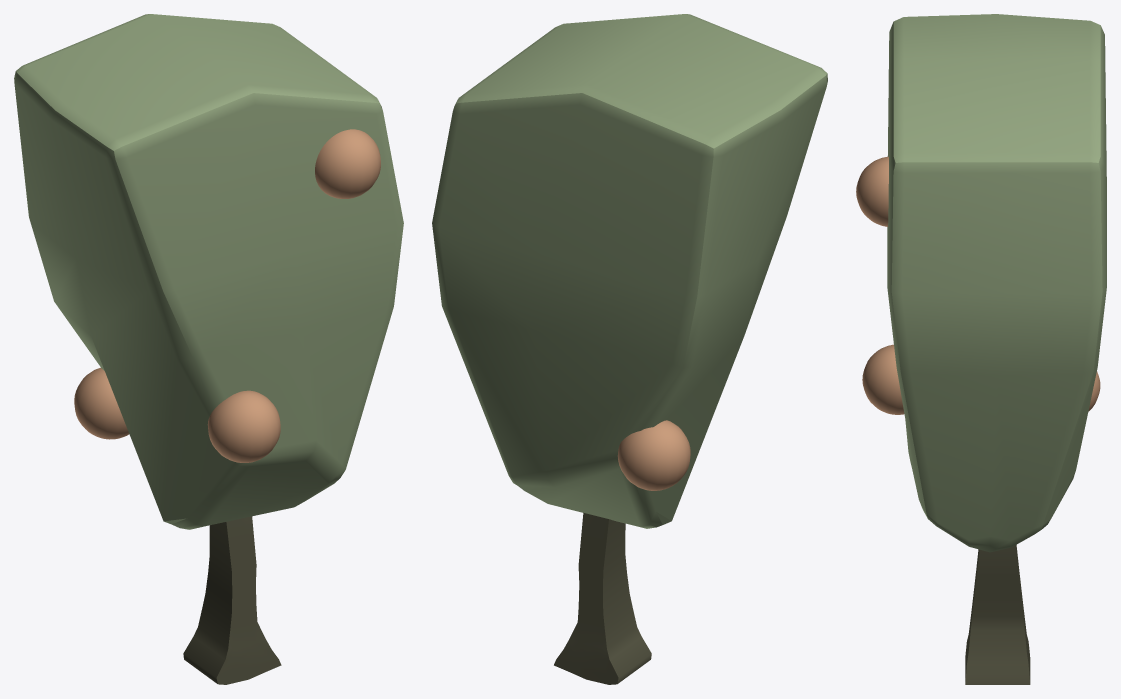
The model's file is Tree1AppleDark.fbx.
3 views of the same model, side by side, from view 1: azimuth 30°, elevation 25°; view 2: azimuth 150°, elevation 25°; view 3: azimuth 270°, elevation 25° (orthographic). The views are drawn at different scales.
Visible parts, largest first — view 1: pasted__pasted__pCube4, pasted__pasted__pCube1, pasted__pSphere7, ForEdit8:pSphere7, pasted__pSphere8; view 2: pasted__pasted__pCube4, pasted__pasted__pCube1, pasted__pSphere8; view 3: pasted__pasted__pCube4, pasted__pasted__pCube1, pasted__pSphere7, ForEdit8:pSphere7.
Part boxes in pixels (bbox=[...]): pasted__pasted__pCube4: bbox=[14, 14, 403, 529]; pasted__pasted__pCube1: bbox=[183, 516, 281, 684]; pasted__pSphere7: bbox=[207, 390, 280, 462]; ForEdit8:pSphere7: bbox=[315, 129, 380, 198]; pasted__pSphere8: bbox=[74, 367, 129, 439]; pasted__pasted__pCube4: bbox=[432, 14, 827, 528]; pasted__pasted__pCube1: bbox=[554, 513, 651, 684]; pasted__pSphere8: bbox=[617, 420, 690, 490]; pasted__pasted__pCube4: bbox=[887, 14, 1106, 552]; pasted__pasted__pCube1: bbox=[965, 545, 1030, 684]; pasted__pSphere7: bbox=[862, 344, 904, 414]; ForEdit8:pSphere7: bbox=[856, 156, 888, 226].
Size of the model in its own units: 2.19 by 4.36 by 1.65.
